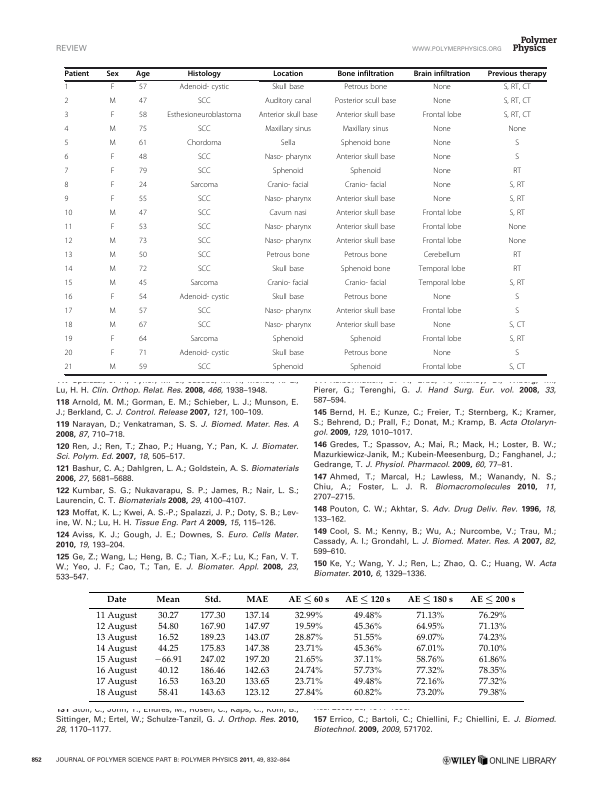borderless: (63, 66, 546, 374), (88, 590, 524, 701)
cell: (166, 111, 242, 121), (334, 97, 397, 107), (335, 111, 396, 121), (335, 153, 396, 163), (335, 195, 396, 205), (335, 209, 396, 219), (335, 223, 396, 233), (335, 237, 396, 247), (335, 307, 396, 317), (335, 321, 396, 331), (258, 111, 318, 121), (487, 70, 547, 79), (336, 70, 395, 79), (413, 70, 471, 79), (178, 83, 230, 93), (178, 293, 230, 303), (178, 349, 230, 359), (340, 139, 391, 149), (340, 265, 391, 275), (264, 97, 312, 107), (264, 125, 312, 135), (264, 153, 312, 163), (264, 195, 312, 205), (264, 223, 312, 233), (264, 237, 312, 247), (418, 265, 466, 275), (418, 279, 466, 289), (264, 307, 312, 317), (264, 321, 312, 331), (344, 595, 391, 605), (406, 595, 453, 605), (469, 595, 516, 605), (342, 125, 389, 135), (95, 611, 137, 622), (95, 622, 137, 633), (95, 633, 137, 644), (95, 644, 137, 655), (95, 655, 137, 666), (95, 666, 137, 677), (95, 677, 137, 688), (95, 688, 137, 699), (343, 83, 388, 93), (343, 251, 388, 261), (343, 293, 388, 303), (343, 349, 388, 359), (266, 181, 310, 191), (266, 251, 310, 261), (266, 279, 310, 289), (287, 595, 330, 605), (344, 181, 387, 191), (344, 279, 387, 289), (422, 111, 462, 121), (268, 209, 308, 219), (422, 209, 462, 219), (422, 223, 462, 233), (422, 237, 462, 247), (422, 307, 462, 317), (422, 335, 462, 345), (422, 363, 462, 373), (423, 251, 461, 261), (186, 139, 222, 149), (271, 83, 305, 93), (271, 265, 305, 275), (271, 293, 305, 303), (271, 349, 305, 359), (352, 611, 382, 622), (415, 611, 445, 622), (477, 611, 507, 622), (352, 622, 382, 633), (415, 622, 445, 633), (477, 622, 507, 633), (352, 633, 382, 644), (415, 633, 445, 644), (477, 633, 507, 644), (352, 644, 382, 655), (415, 644, 445, 655), (477, 644, 507, 655), (153, 655, 183, 666), (352, 655, 382, 666), (415, 655, 445, 666), (477, 655, 507, 666), (352, 666, 382, 677), (415, 666, 445, 677), (477, 666, 507, 677), (352, 677, 382, 688), (415, 677, 445, 688), (477, 677, 507, 688), (352, 688, 382, 699), (415, 688, 445, 699), (477, 688, 507, 699), (349, 167, 382, 177), (349, 335, 382, 345), (349, 363, 382, 373), (272, 167, 304, 177), (272, 335, 304, 345), (272, 363, 304, 373), (294, 611, 323, 622), (294, 622, 323, 633), (294, 633, 323, 644), (294, 644, 323, 655), (294, 655, 323, 666), (294, 666, 323, 677), (294, 677, 323, 688), (294, 688, 323, 699), (187, 70, 222, 79), (189, 181, 219, 191), (189, 279, 219, 289), (189, 335, 219, 345), (199, 611, 226, 622), (243, 611, 270, 622), (199, 622, 226, 633), (243, 622, 270, 633), (199, 633, 226, 644), (243, 633, 270, 644), (199, 644, 226, 655), (243, 644, 270, 655), (199, 655, 226, 666), (243, 655, 270, 666), (199, 666, 226, 677), (243, 666, 270, 677), (199, 677, 226, 688), (243, 677, 270, 688), (199, 688, 226, 699), (243, 688, 270, 699), (503, 83, 532, 93), (503, 97, 532, 107), (503, 111, 532, 121), (272, 70, 304, 79), (157, 611, 179, 622), (157, 622, 179, 633), (157, 633, 179, 644), (157, 644, 179, 655), (157, 666, 179, 677), (157, 677, 179, 688), (157, 688, 179, 699), (64, 70, 90, 79), (155, 595, 181, 603), (432, 83, 452, 93), (432, 97, 452, 107), (432, 125, 452, 135), (507, 125, 527, 135), (432, 139, 452, 149), (432, 153, 452, 163), (432, 167, 452, 177), (432, 181, 452, 191), (432, 195, 452, 205), (507, 223, 527, 233), (507, 237, 527, 247), (432, 293, 452, 303), (432, 321, 452, 331), (432, 349, 452, 359), (245, 595, 268, 603), (508, 321, 526, 331), (508, 363, 526, 373), (105, 595, 127, 603), (509, 181, 526, 191), (509, 195, 526, 205), (509, 209, 526, 219), (509, 279, 526, 289), (509, 335, 526, 345), (280, 139, 296, 149), (203, 595, 221, 603), (135, 70, 151, 79), (197, 97, 211, 107), (197, 125, 211, 135), (197, 153, 211, 163), (197, 167, 211, 177), (197, 195, 211, 205), (197, 209, 211, 219), (197, 223, 211, 233), (197, 237, 211, 247), (197, 251, 211, 261), (197, 265, 211, 275), (197, 307, 211, 317), (197, 321, 211, 331), (197, 363, 211, 373), (105, 70, 120, 79), (138, 83, 148, 93), (138, 97, 148, 107), (138, 111, 148, 121), (138, 125, 148, 135), (138, 139, 148, 149), (138, 153, 148, 163), (138, 167, 148, 177), (512, 167, 522, 177), (138, 181, 148, 191), (138, 195, 148, 205), (138, 209, 148, 219), (138, 223, 148, 233), (138, 237, 148, 247), (138, 251, 148, 261), (512, 251, 522, 261), (138, 265, 148, 275), (512, 265, 522, 275), (138, 279, 148, 289), (138, 293, 148, 303), (138, 307, 148, 317), (138, 321, 148, 331), (138, 335, 148, 345), (138, 349, 148, 359), (138, 363, 148, 373), (108, 97, 117, 107), (108, 125, 117, 135), (108, 139, 117, 149), (64, 209, 73, 219), (108, 209, 117, 219), (64, 223, 73, 233), (64, 237, 73, 247), (108, 237, 117, 247), (64, 251, 73, 261), (108, 251, 117, 261), (64, 265, 73, 275), (108, 265, 117, 275), (64, 279, 73, 289), (108, 279, 117, 289), (64, 293, 73, 303), (64, 307, 73, 317), (108, 307, 117, 317), (64, 321, 73, 331), (108, 321, 117, 331), (64, 335, 73, 345), (64, 349, 73, 359), (64, 363, 73, 373), (108, 363, 117, 373), (514, 139, 520, 149), (514, 153, 520, 163), (514, 293, 520, 303), (514, 307, 520, 317), (514, 349, 520, 359), (64, 83, 69, 93), (110, 83, 115, 93), (64, 97, 69, 107), (64, 111, 69, 121), (110, 111, 115, 121), (64, 125, 69, 135), (64, 139, 69, 149), (64, 153, 69, 163), (110, 153, 115, 163), (64, 167, 69, 177), (110, 167, 115, 177), (64, 181, 69, 191), (110, 181, 115, 191), (64, 195, 69, 205), (110, 195, 115, 205), (110, 223, 115, 233), (110, 293, 115, 303), (110, 335, 115, 345), (110, 349, 115, 359)
